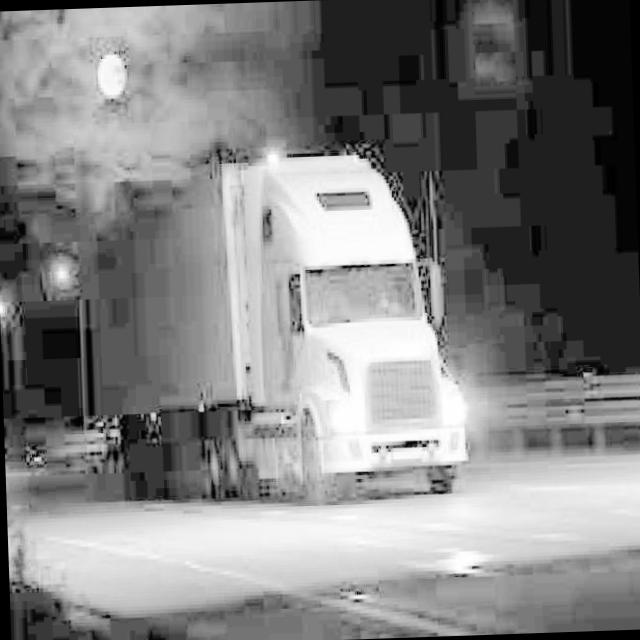Truck: (202, 144, 472, 506)
